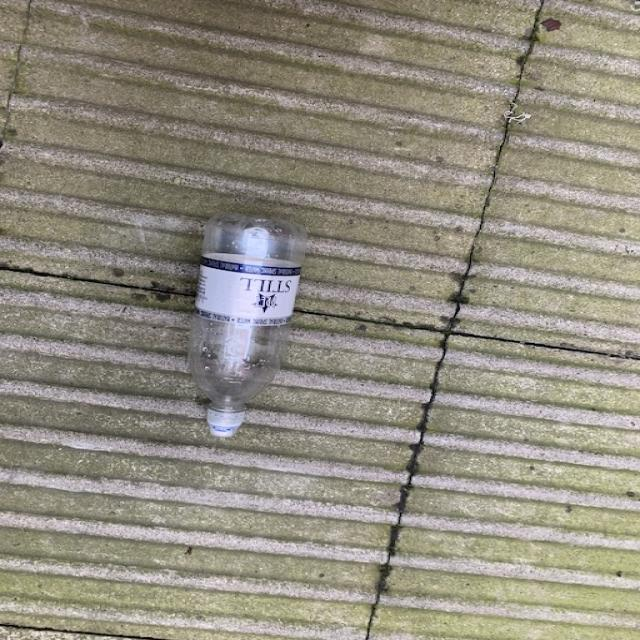Waste: (189, 213, 308, 438)
